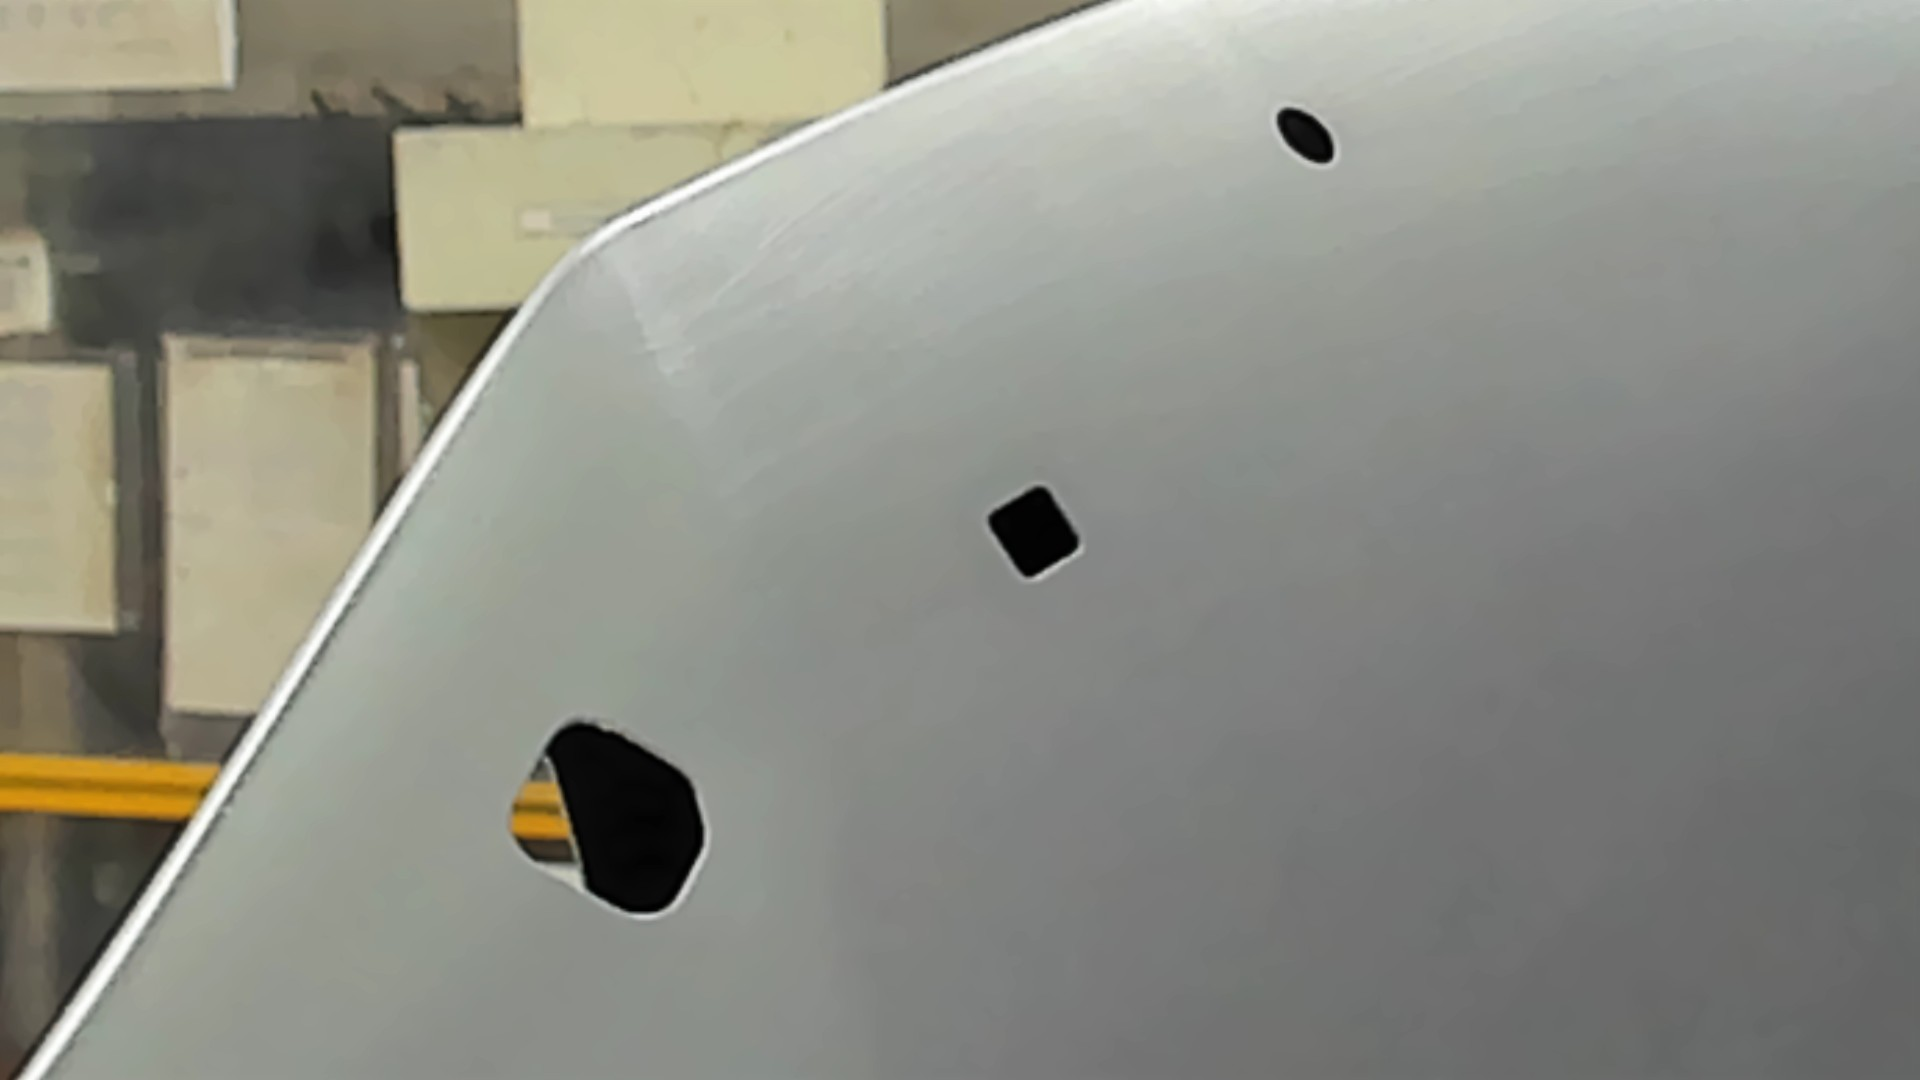chico: (1274, 103, 1338, 167)
grande: (505, 715, 711, 923)
mediano: (984, 483, 1084, 582)
